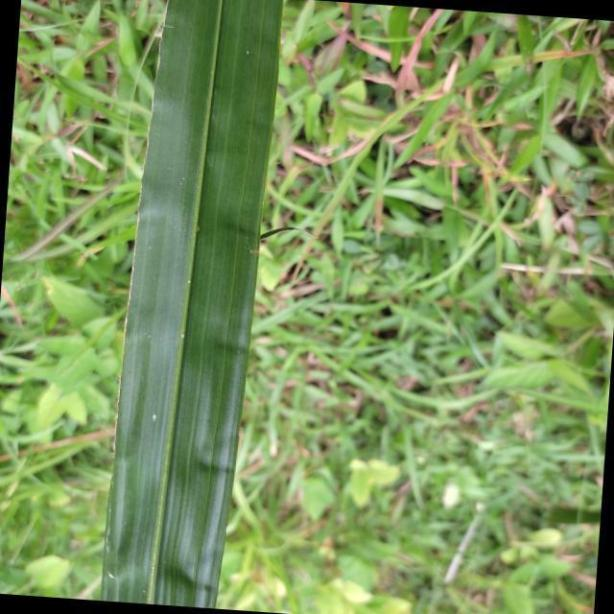Boron: (104, 0, 278, 614)
